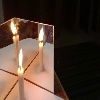fire: (18, 46, 25, 72)
